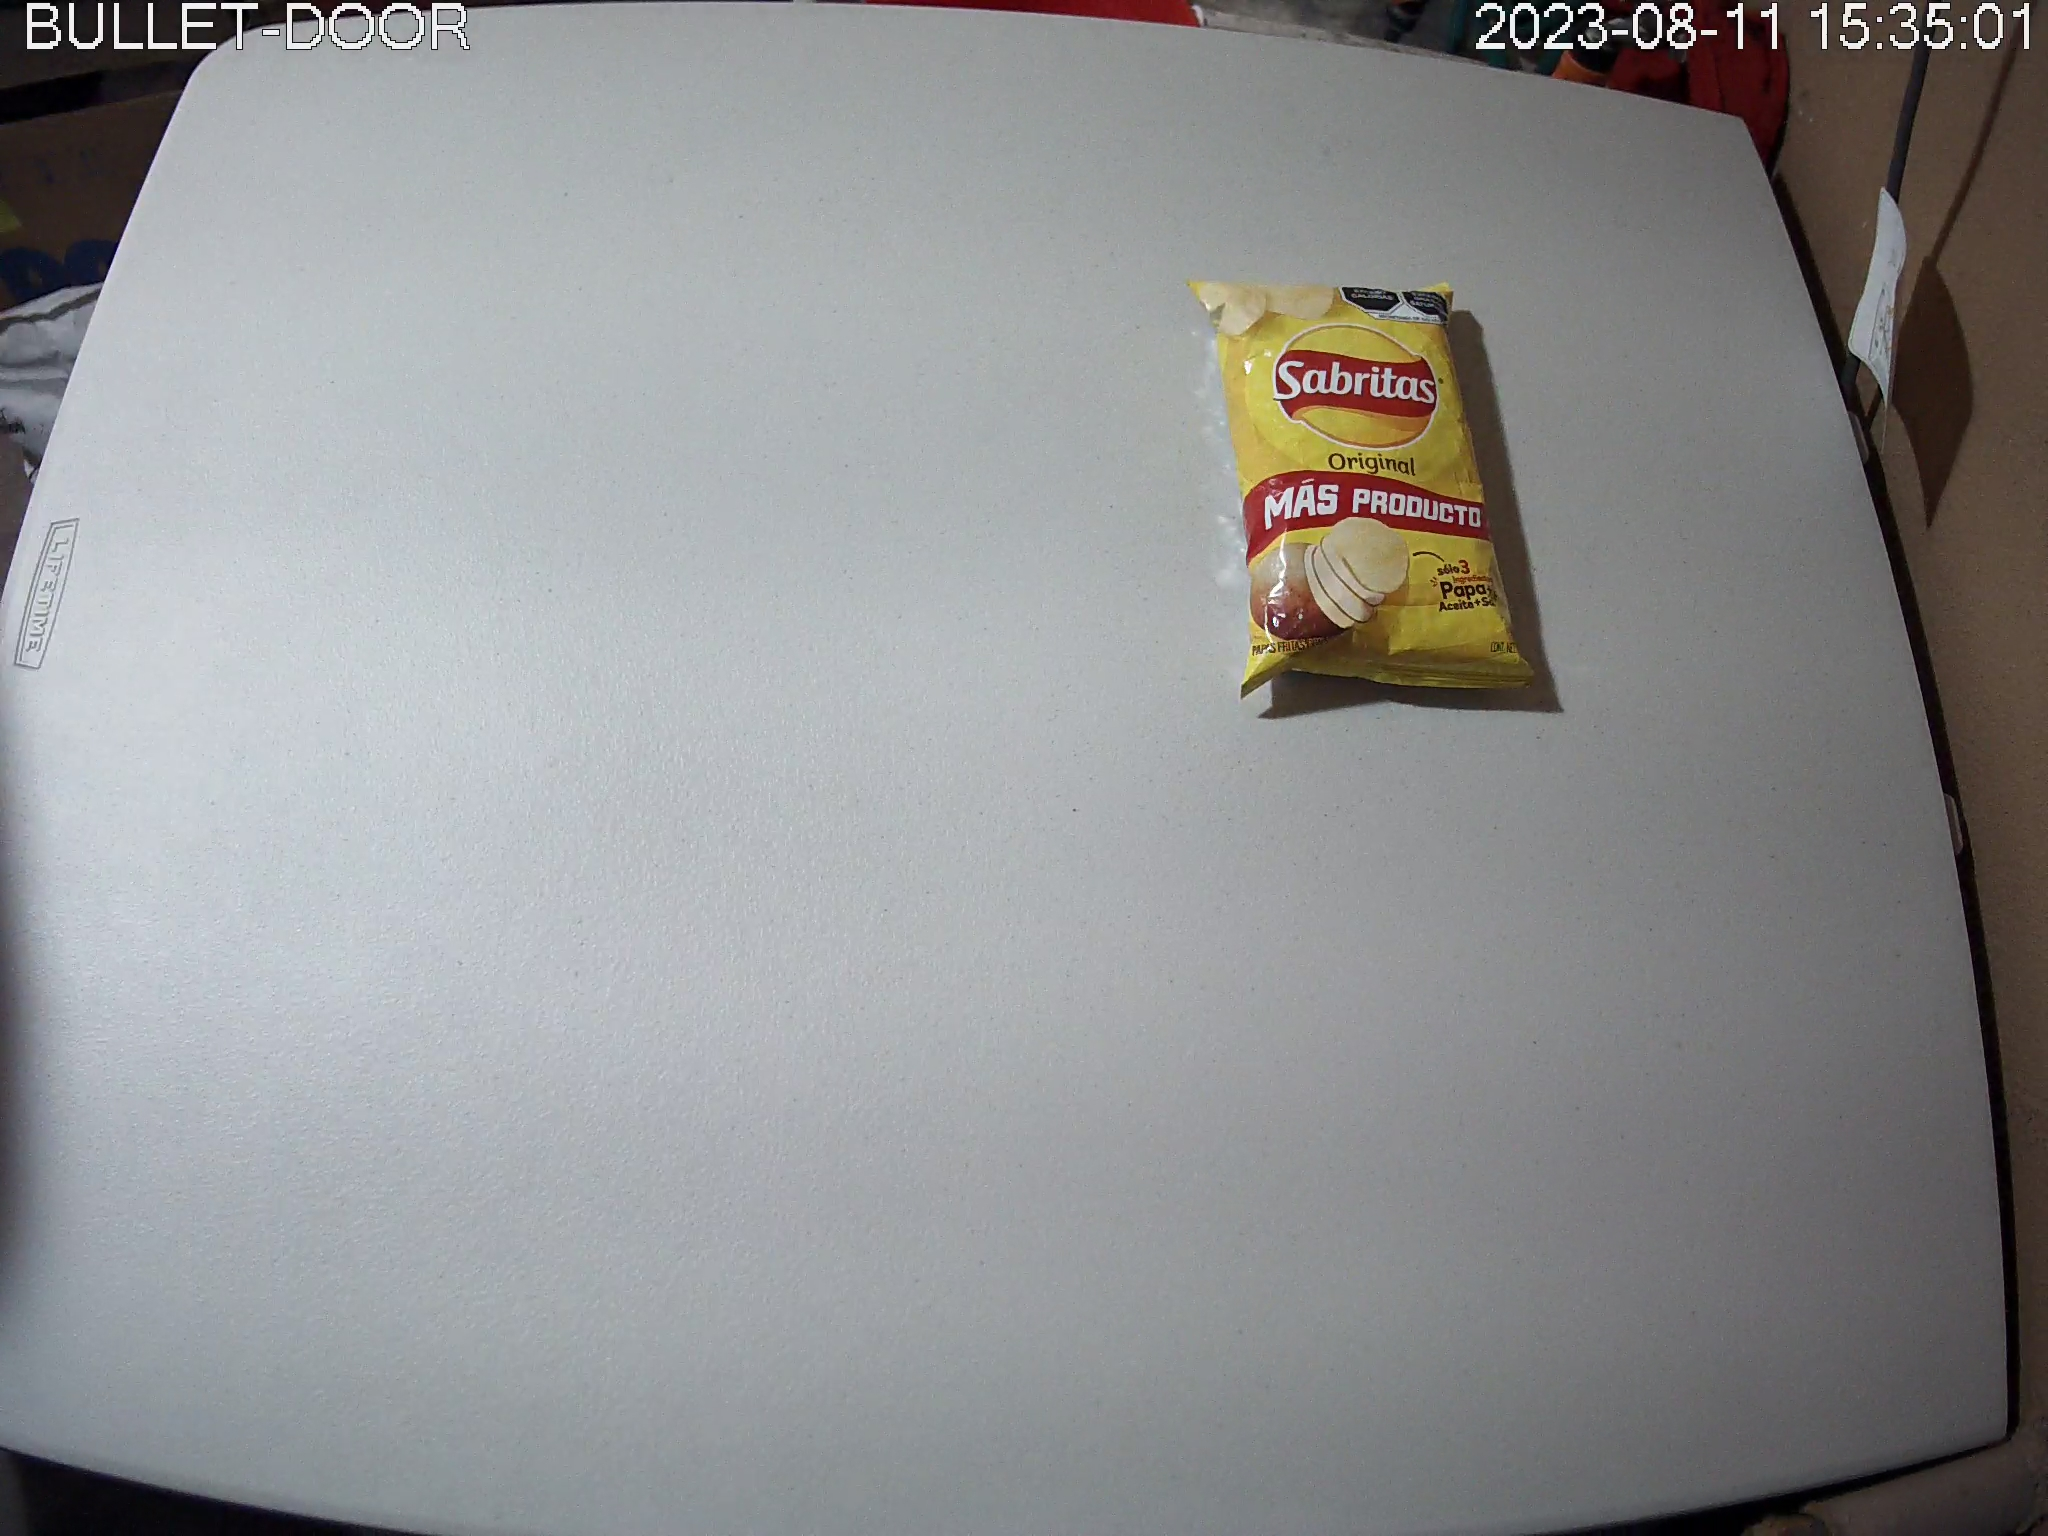Sabritas_45_F: (1185, 274, 1543, 705)
